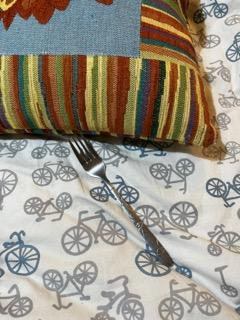fork: (66, 129, 176, 268)
